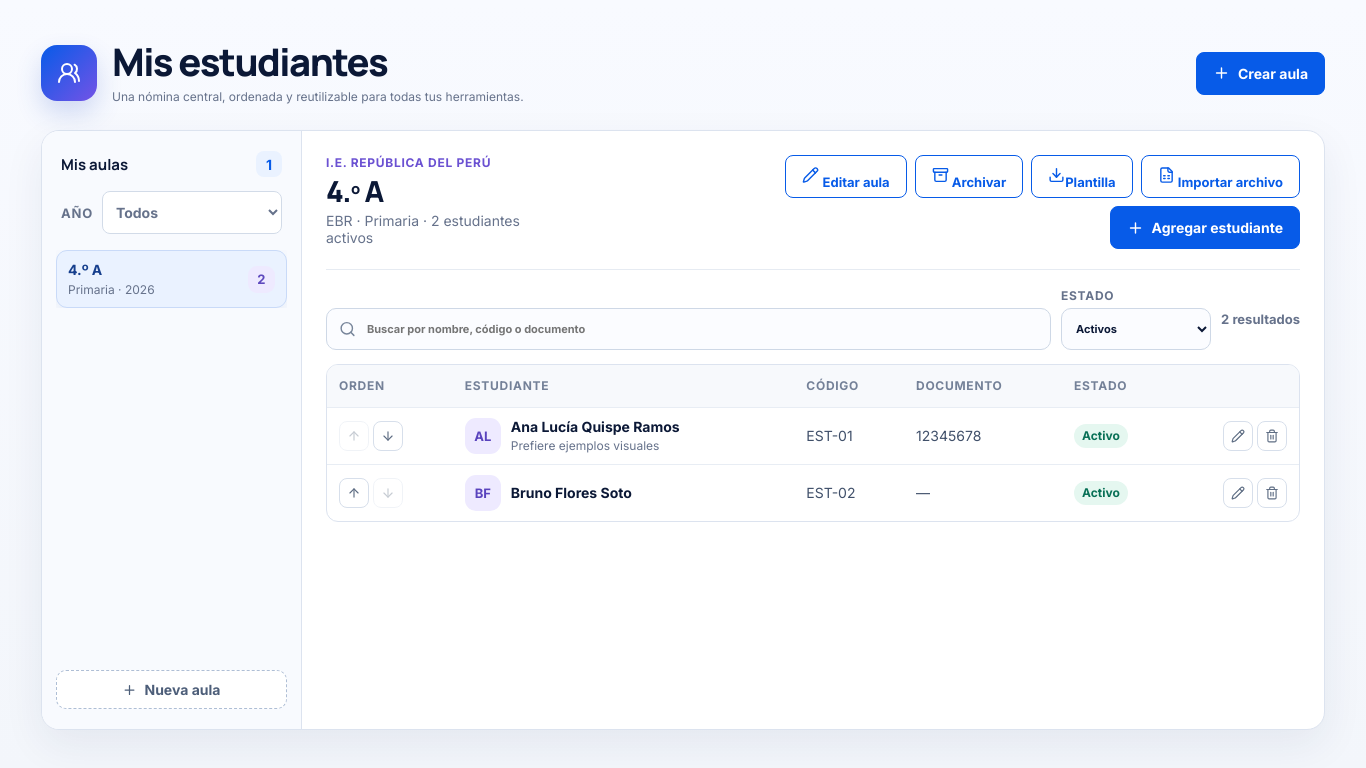
Test: RosterPage › loads an aula, searches students and exposes the active count
The width and height of the screenshot is (1366, 768).
Expected: the heading "4.º A" is shown, top-left (326, 171), bottom-right (383, 211)
Expected: the text "Ana Lucía Quispe Ramos" is shown, top-left (511, 418), bottom-right (680, 435)
Type "lucia" into the field with placeholder "Buscar por nombre, código o documento".
click(689, 329); type("lucia")  # box top-left (326, 308), bottom-right (1051, 350)
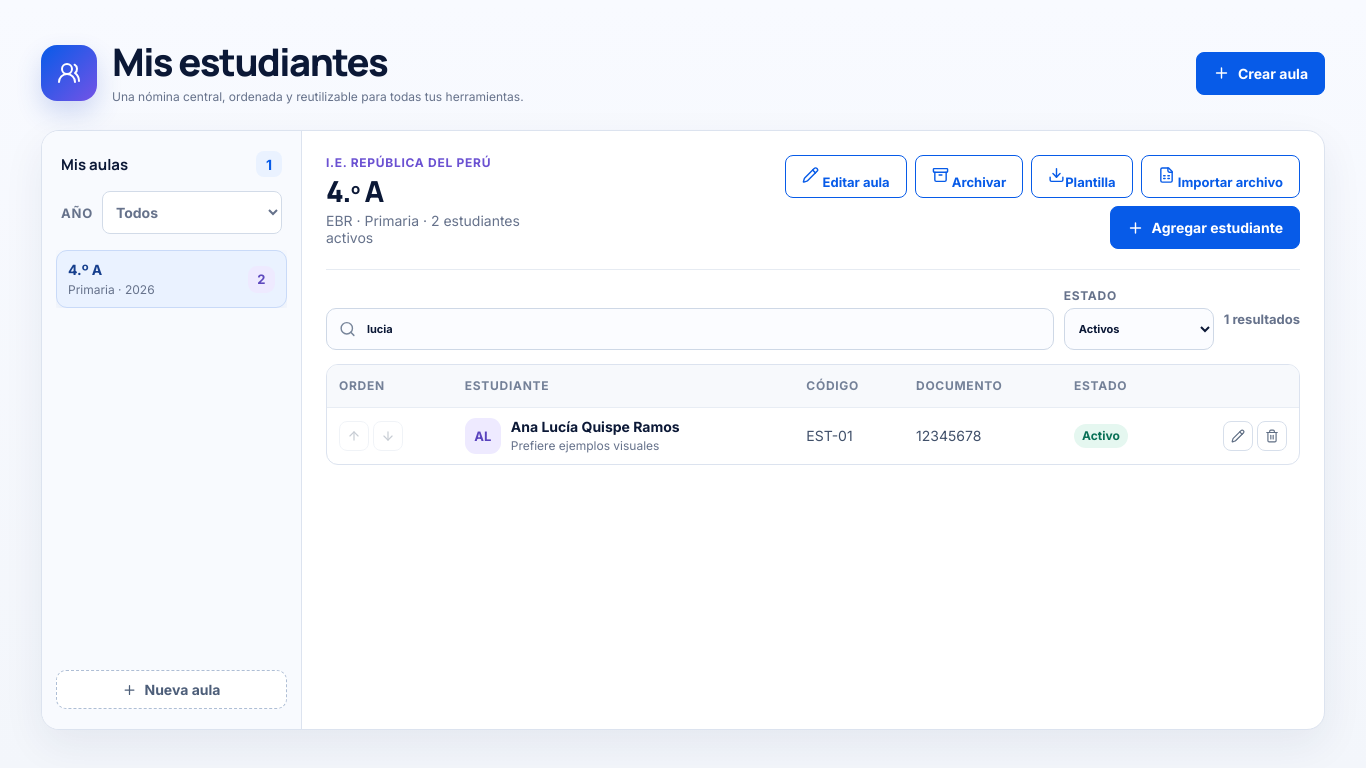
Expected: the text "Ana Lucía Quispe Ramos" is shown, top-left (511, 418), bottom-right (680, 435)
Replace the text in the field with placeholder "Buscar por nombre, código o documento" with "Bruno" at (690, 329), box top-left (326, 308), bottom-right (1054, 350)
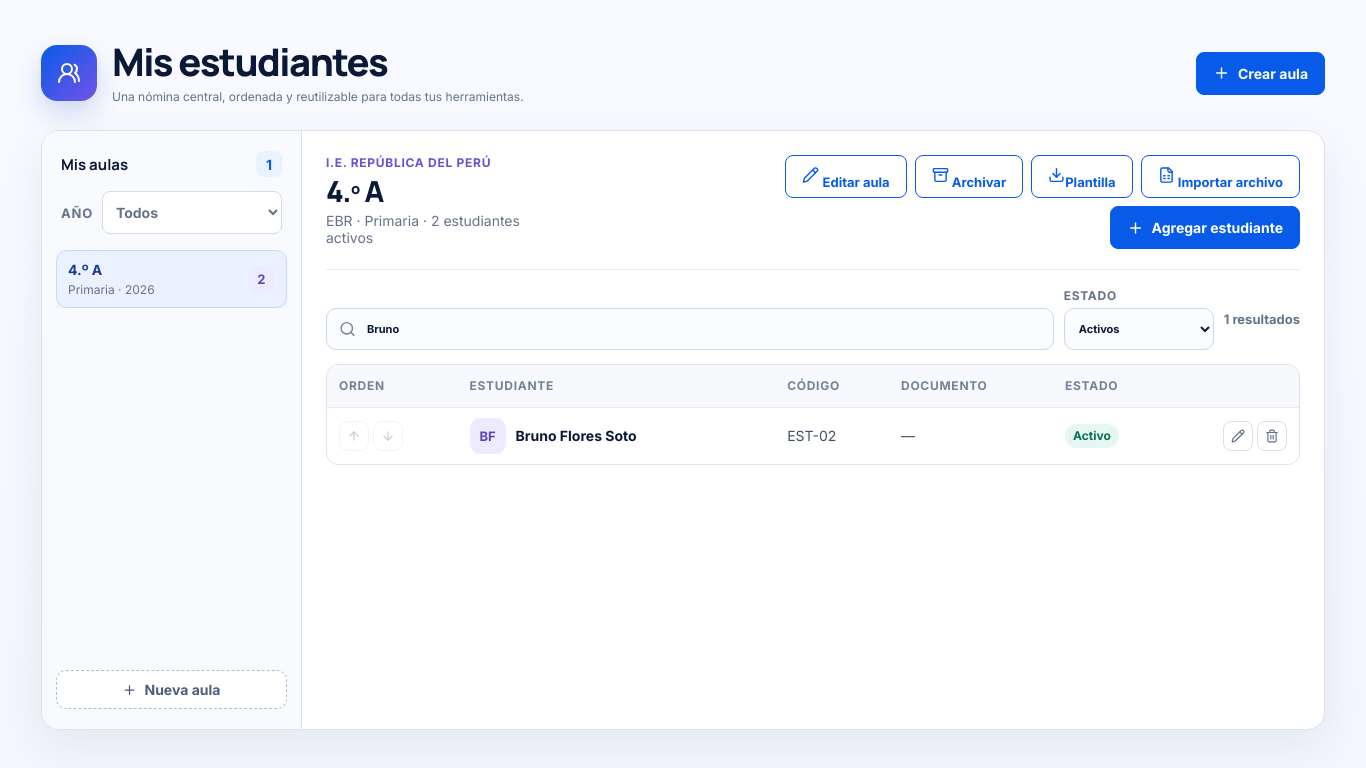
Now the text "Bruno Flores Soto" is shown, box top-left (516, 427), bottom-right (637, 444)
Now the text "Ana Lucía Quispe Ramos" is gone
